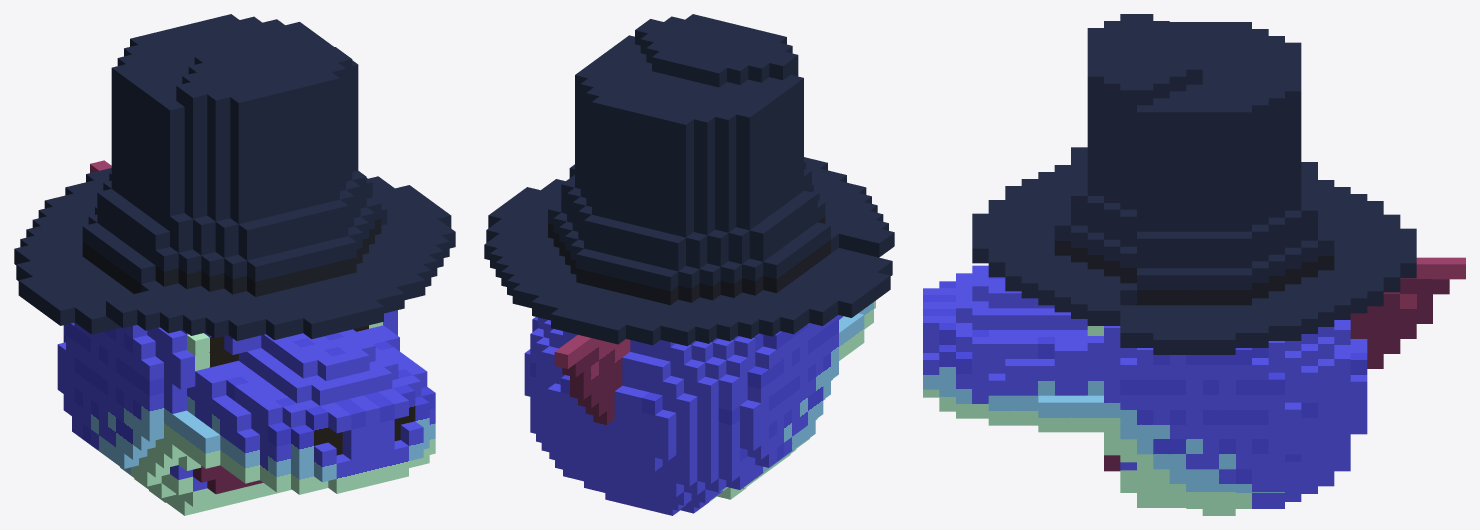
Rendered from top hat_3d glasses.gltf.
The picture shows the model from 3 angles, left to right: view 1: azimuth 30°, elevation 25°; view 2: azimuth 150°, elevation 25°; view 3: azimuth 270°, elevation 25°; orthographic projection. The views are drawn at different scales.
Parts seen in each view (by area): view 1: C53_H_TopH_CoolD_3D_RBShade-Mesh; view 2: C53_H_TopH_CoolD_3D_RBShade-Mesh; view 3: C53_H_TopH_CoolD_3D_RBShade-Mesh.
Part boxes in pixels (x1,y1,x2,y2): C53_H_TopH_CoolD_3D_RBShade-Mesh: (14,14,455,515); C53_H_TopH_CoolD_3D_RBShade-Mesh: (484,14,894,515); C53_H_TopH_CoolD_3D_RBShade-Mesh: (923,14,1465,515).
Size of the model in its own units: 27 by 29 by 33.
Materials: 1 (1 with a texture image).
